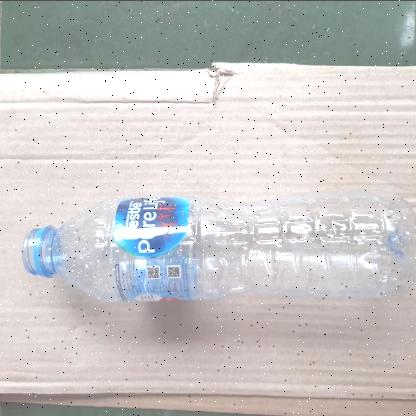Plastic Bottle: (22, 194, 416, 304)
